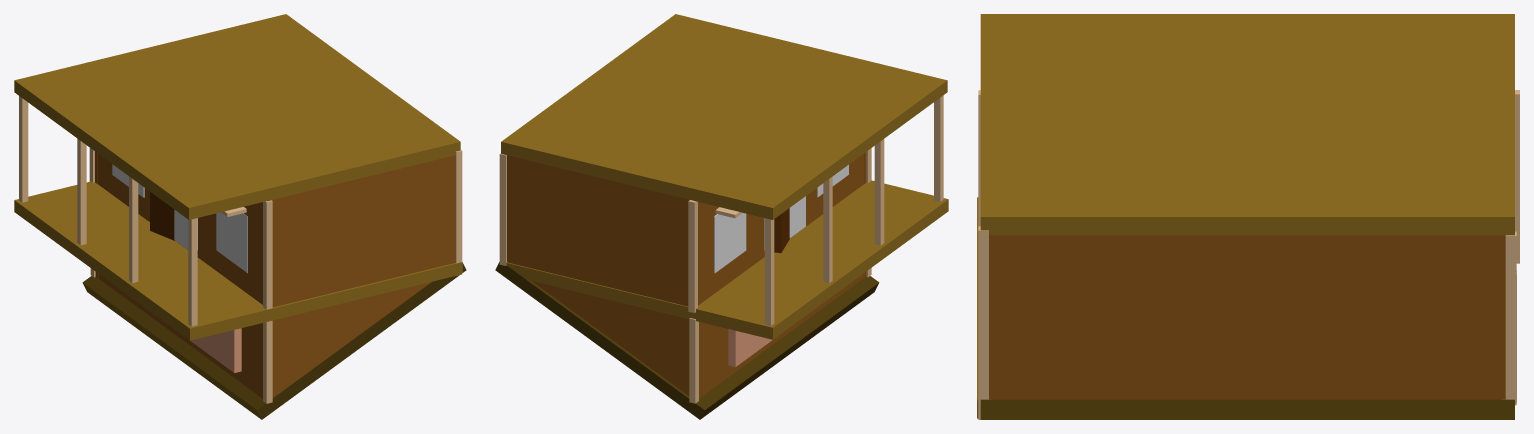
Rendered from SmallerBuildings.fbx.
3 views of the same model, side by side, from view 1: azimuth 30°, elevation 25°; view 2: azimuth 150°, elevation 25°; view 3: azimuth 270°, elevation 25° (orthographic). The views are drawn at different scales.
Parts seen in each view (by area): view 1: Cube.002, Cube.010, Cube.017, Cube.014, Cube.016, Cube.013, Cube.018, Cube.022, Cube.019, Cube.003, Cube.025, Cube.024 (+6 smaller); view 2: Cube.002, Cube.011, Cube.017, Cube.014, Cube.015, Cube.013, Cube.018, Cube.021, Cube.026, Cube.023, Cube.004, Cube.024 (+6 smaller); view 3: Cube.002, Cube.012, Cube.014, Cube, Cube.001, Cube.004, Cube.011.
Boxes of the visible parts, x1,y1,x2,y2 form: Cube.002: [14, 14, 460, 219]; Cube.010: [267, 155, 455, 307]; Cube.017: [14, 181, 461, 340]; Cube.014: [82, 262, 466, 419]; Cube.016: [272, 282, 431, 397]; Cube.013: [98, 154, 262, 304]; Cube.018: [98, 274, 262, 398]; Cube.022: [216, 212, 247, 273]; Cube.019: [190, 328, 241, 372]; Cube.003: [263, 200, 272, 309]; Cube.025: [188, 218, 197, 326]; Cube.024: [77, 138, 86, 245]; Cube.002: [501, 14, 947, 219]; Cube.011: [507, 155, 698, 306]; Cube.017: [506, 180, 948, 339]; Cube.014: [495, 262, 879, 419]; Cube.015: [532, 281, 699, 398]; Cube.013: [699, 153, 864, 304]; Cube.018: [699, 273, 864, 397]; Cube.021: [714, 213, 746, 273]; Cube.026: [764, 218, 774, 325]; Cube.023: [874, 139, 884, 245]; Cube.004: [688, 200, 697, 312]; Cube.024: [823, 176, 832, 283]; Cube.002: [980, 14, 1514, 235]; Cube.012: [991, 235, 1501, 399]; Cube.014: [980, 399, 1514, 419]; Cube: [1505, 231, 1516, 405]; Cube.001: [978, 226, 988, 419]; Cube.004: [1515, 90, 1519, 263]; Cube.011: [1501, 235, 1505, 399].
Bounding box in the file's own units: 9175 × 7250 × 10149.
